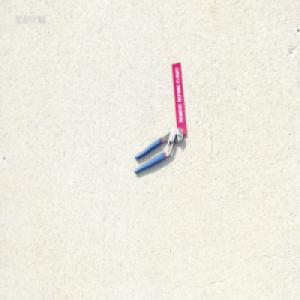Label: (170, 62, 187, 136)
Pliers: (133, 126, 183, 175)
